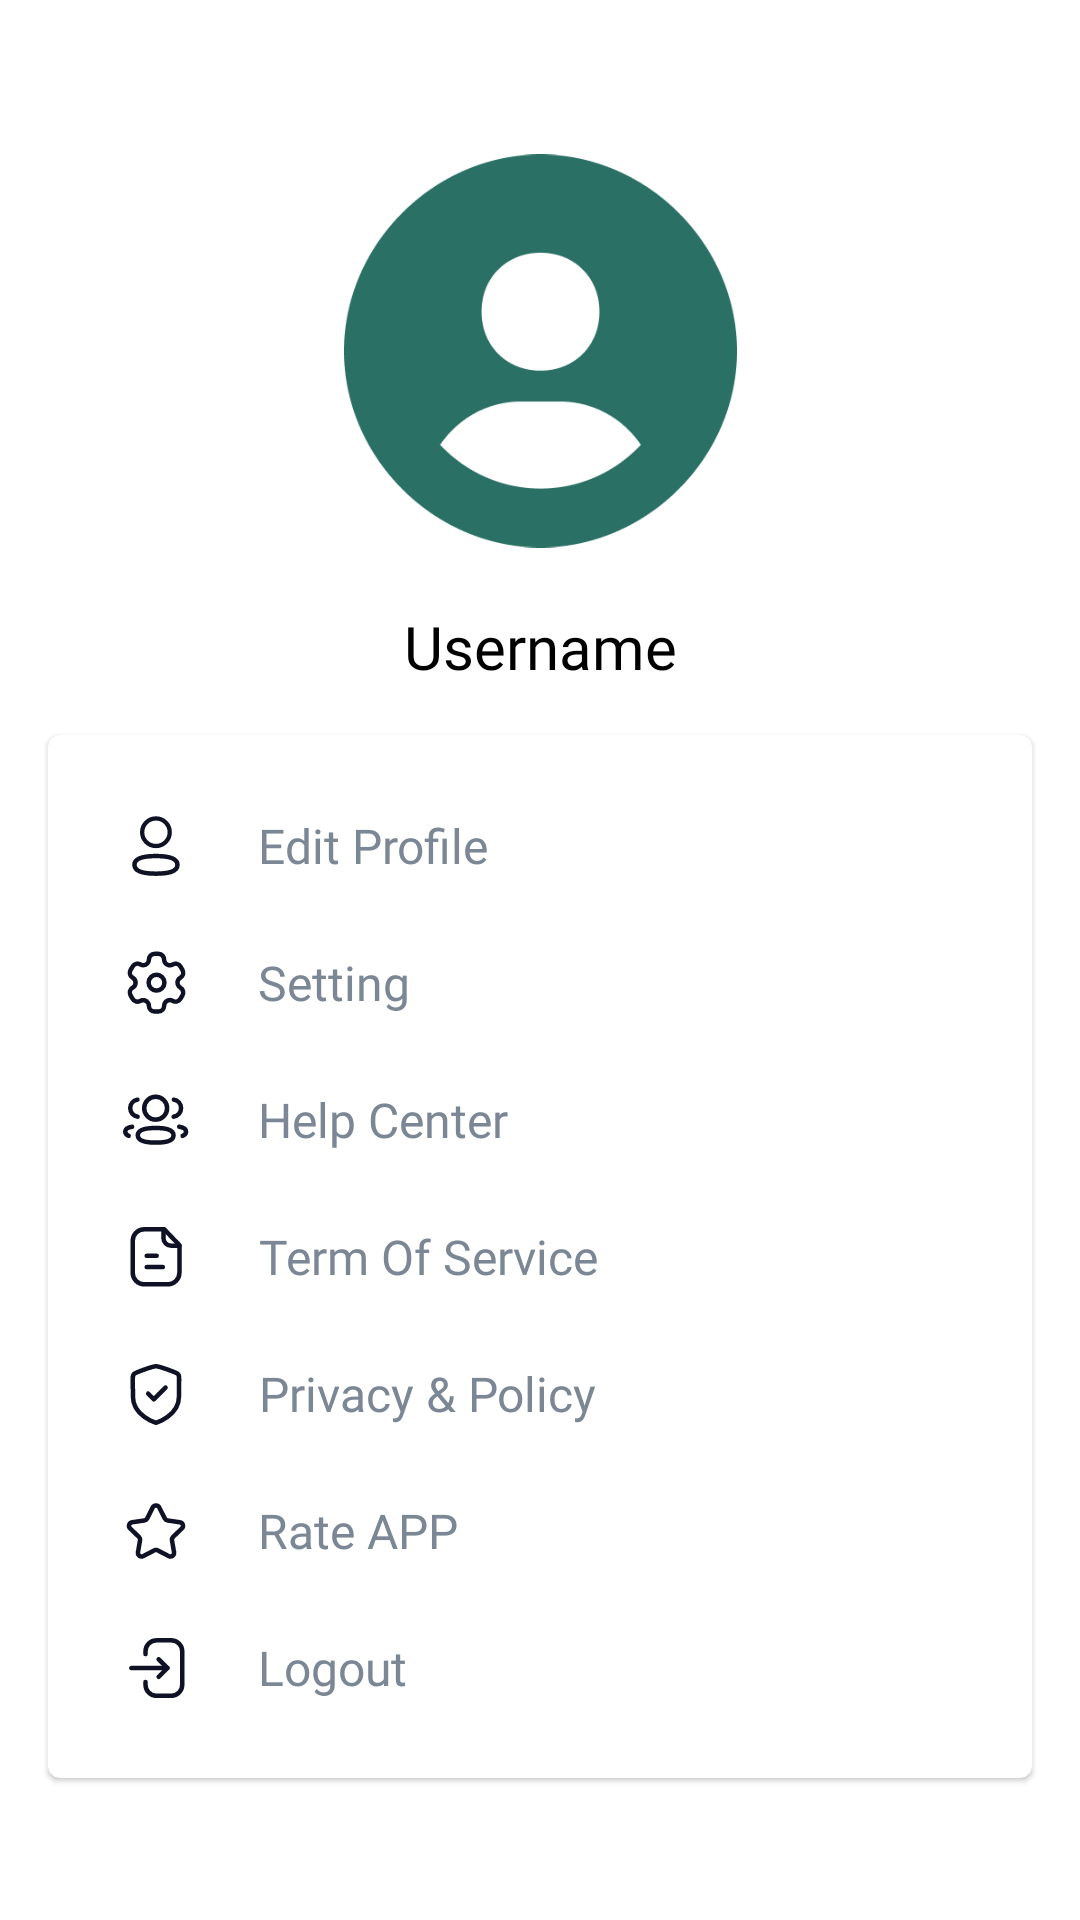

Icons on this 1080px x 1920px Android screen, each with its box as (x1=x1, y1=y1, x2=x2, y2=y2):
star: (x1=126, y1=1503, x2=186, y2=1559)
